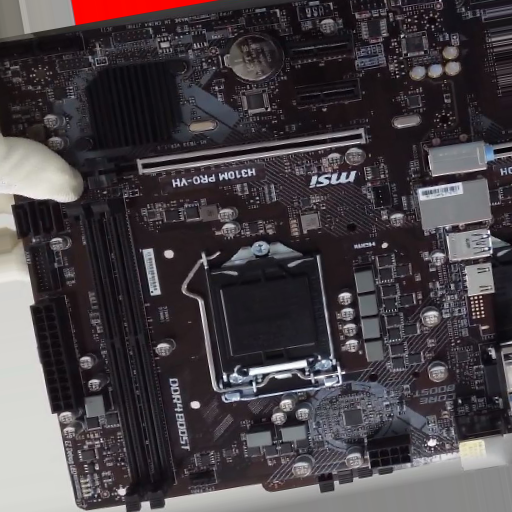CPU: (211, 242, 340, 403)
GPU: (80, 126, 368, 192)
MOTHERBOARD: (2, 3, 478, 512)
RAM: (70, 190, 175, 512)
